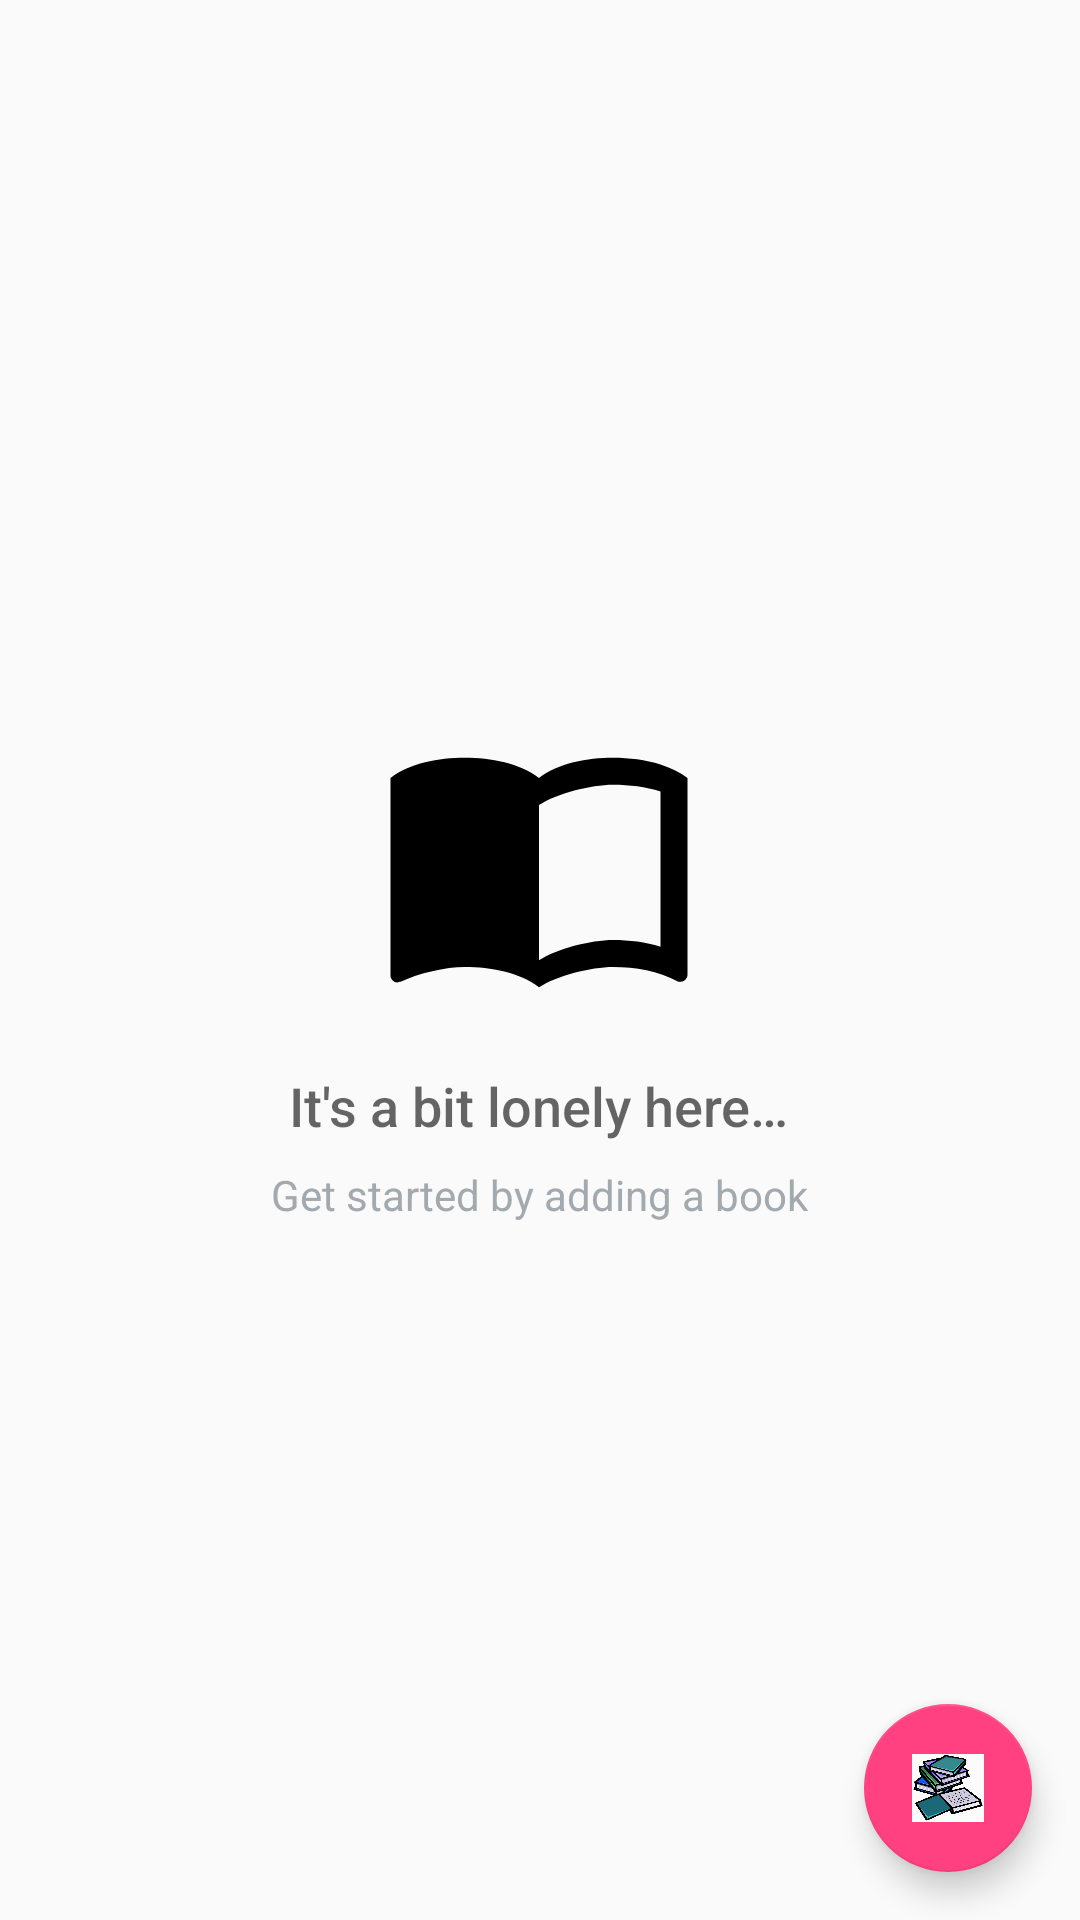

Where to tap for icons on this 1080×1920 app screen, as [x,y]:
stacks: [948,1788]
